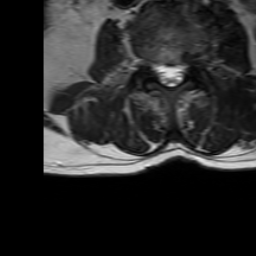CCS_normal: (165, 53, 175, 94)
LFS_severe_stenosis: (185, 48, 197, 75)
LLS_normal: (175, 54, 185, 87)
RFS_stenosis: (144, 48, 155, 74)
RLS_normal: (155, 54, 165, 88)
